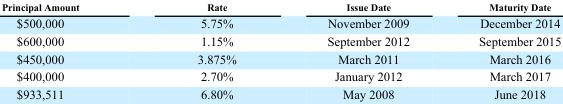table: (0, 1, 560, 100)
table column: (281, 1, 443, 100), (137, 1, 281, 100), (0, 1, 137, 100), (443, 1, 560, 100)
table column header: (0, 1, 560, 14)
table row: (0, 31, 560, 49), (0, 49, 560, 67), (0, 14, 560, 31), (0, 67, 560, 84), (0, 84, 560, 100), (0, 1, 560, 14)
